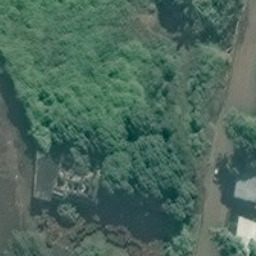buildings: (30, 150, 103, 209), (230, 161, 256, 204), (230, 215, 256, 256)
